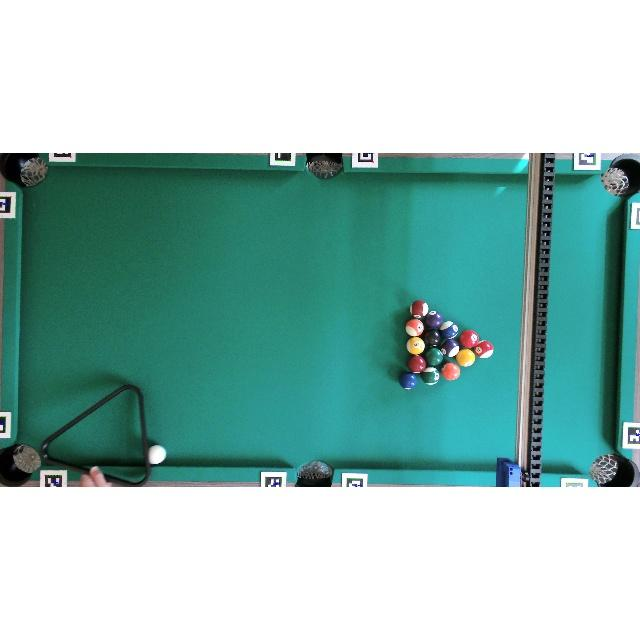cue ball: (146, 444, 167, 465)
other: (424, 347, 444, 366), (423, 310, 443, 329), (474, 340, 494, 359), (440, 338, 459, 358), (441, 362, 461, 381), (459, 330, 480, 348), (440, 321, 459, 340), (456, 349, 476, 367), (406, 337, 426, 355), (422, 329, 441, 347), (405, 319, 424, 337), (410, 300, 429, 318), (421, 367, 440, 385), (408, 355, 427, 373), (398, 372, 418, 389)
